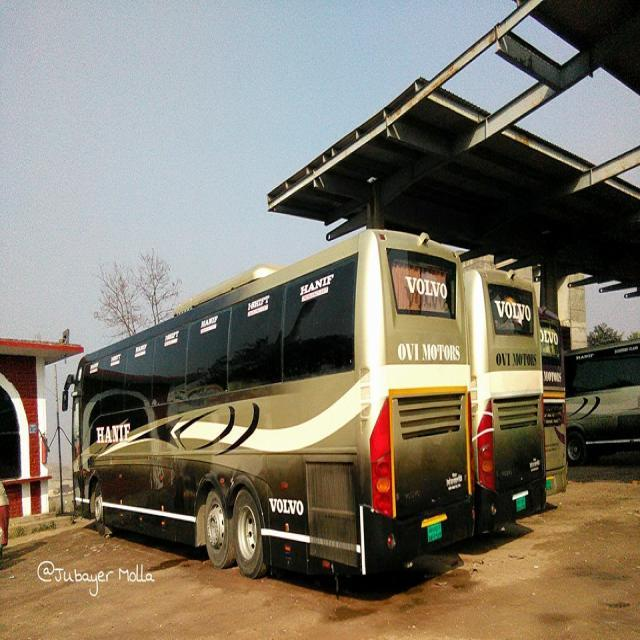bus: (61, 226, 475, 579)
